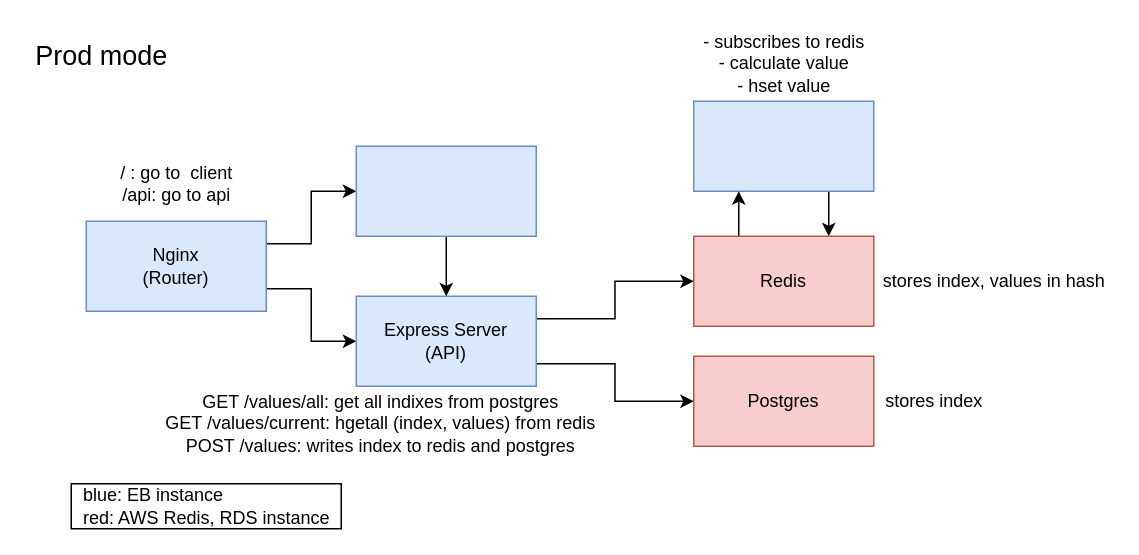
This 1139x555 diagram has some shape labels left out. The centre of each missing label's shape, as x and y in pixels:
"Nginx with client embedded" goes at pixel 445 190.
"Worker" goes at pixel 783 145.
